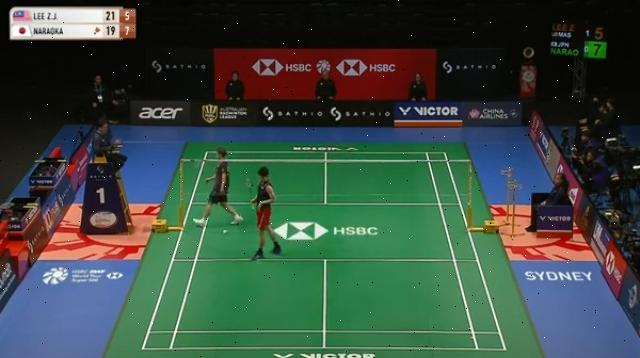Shuttlecock: (221, 228, 231, 238)
